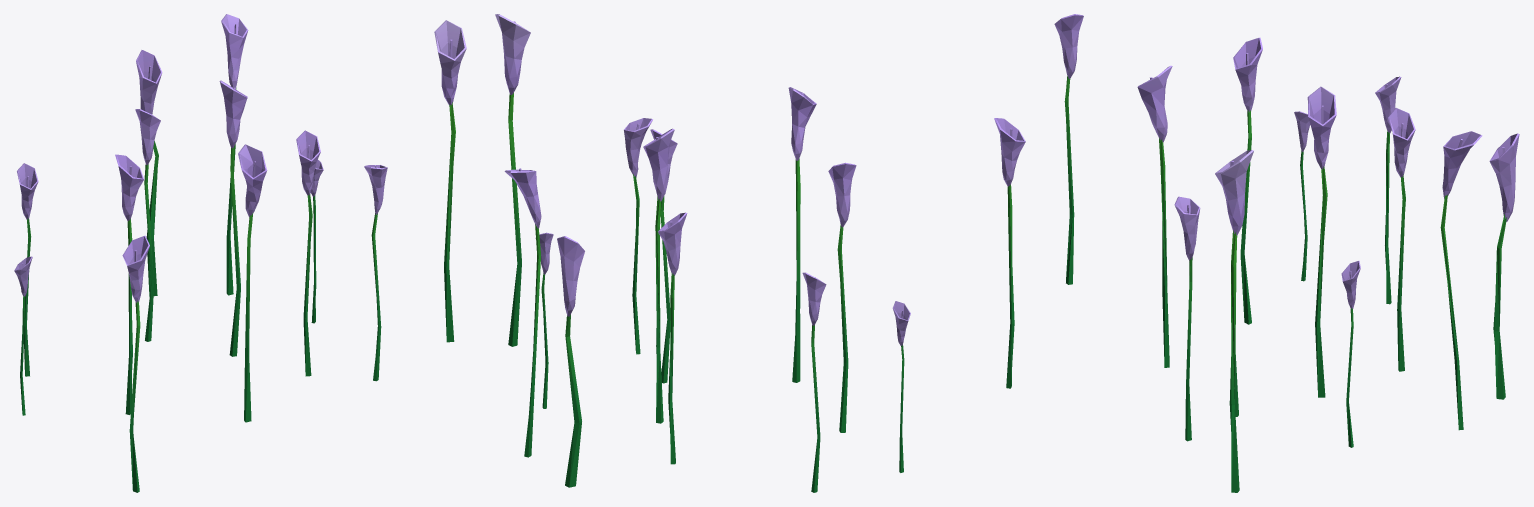
File: flower_lavender.glb
3 renders of one model, left to right at view 1: azimuth 30°, elevation 25°; view 2: azimuth 150°, elevation 25°; view 3: azimuth 270°, elevation 25°, orthographic. The views are drawn at different scales.
Visible parts, largest first — view 1: Flower 5_2_C; view 2: Flower 5_2_C; view 3: Flower 5_2_C.
Boxes of the visible parts, left/top/right/bottom form: Flower 5_2_C: left=14, top=14, right=466, bottom=492; Flower 5_2_C: left=495, top=14, right=1025, bottom=492; Flower 5_2_C: left=1054, top=14, right=1519, bottom=492.
Size of the model in its own units: 0.5006 by 0.36 by 0.4419.
Materials: 1 (1 with a texture image).
